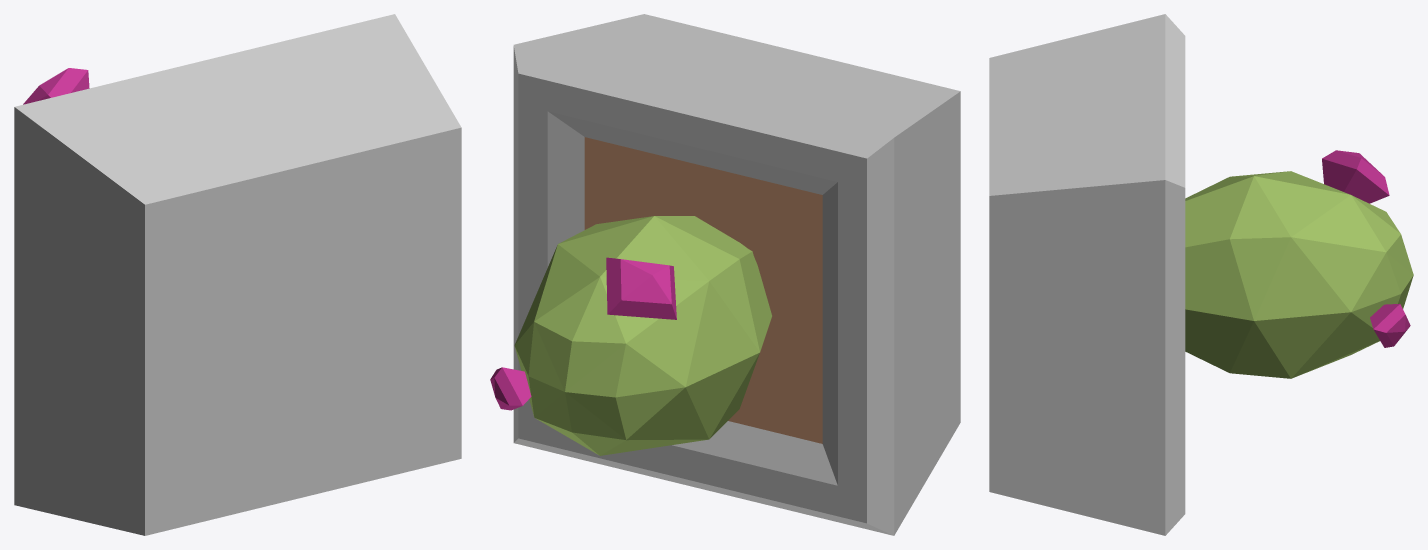
The model's file is Deco_4.glb.
3 renders of one model, left to right at view 1: azimuth 30°, elevation 25°; view 2: azimuth 150°, elevation 25°; view 3: azimuth 270°, elevation 25°, orthographic. The views are drawn at different scales.
Visible parts, largest first — view 1: Deco 4; view 2: Deco 4; view 3: Deco 4.
Boxes of the visible parts, box(x1,y1,x2,y2) form: Deco 4: box(14, 14, 461, 535); Deco 4: box(490, 14, 960, 535); Deco 4: box(989, 14, 1413, 535).
Size of the model in its own units: 0.0798 by 0.0798 by 0.0862.
Materials: 1 (1 with a texture image).
